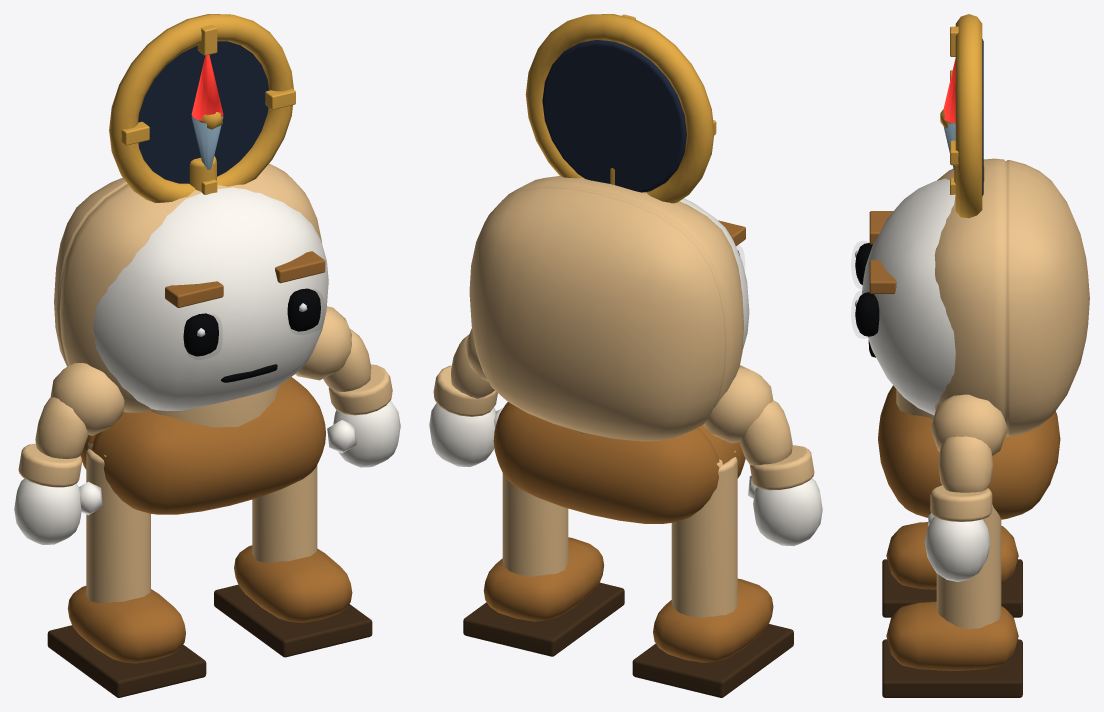
Rendered from role-compass.glb.
The picture shows the model from 3 angles, left to right: view 1: azimuth 30°, elevation 25°; view 2: azimuth 150°, elevation 25°; view 3: azimuth 270°, elevation 25°; orthographic projection. The views are drawn at different scales.
Visible parts, largest first — view 1: Body, Accessory, Leg_L, Leg_R, Arm_L, Arm_R; view 2: Body, Accessory, Leg_L, Leg_R, Arm_L, Arm_R; view 3: Body, Leg_R, Arm_R, Accessory, Leg_L.
Boxes of the visible parts, <box> form: Body: <box>54,163,328,514</box>; Accessory: <box>109,14,295,202</box>; Leg_L: <box>47,442,206,697</box>; Leg_R: <box>214,465,372,657</box>; Arm_L: <box>14,363,124,544</box>; Arm_R: <box>295,306,400,467</box>; Body: <box>469,176,749,523</box>; Accessory: <box>525,14,716,203</box>; Leg_L: <box>632,450,793,697</box>; Leg_R: <box>463,473,624,656</box>; Arm_L: <box>703,365,822,546</box>; Arm_R: <box>429,328,502,466</box>; Body: <box>855,158,1089,519</box>; Leg_R: <box>882,504,1022,697</box>; Arm_R: <box>924,394,1007,581</box>; Accessory: <box>940,14,984,218</box>; Leg_L: <box>882,522,1022,617</box>.
Bounding box in the file's own units: 0.6859 × 1.07 × 0.3771.
